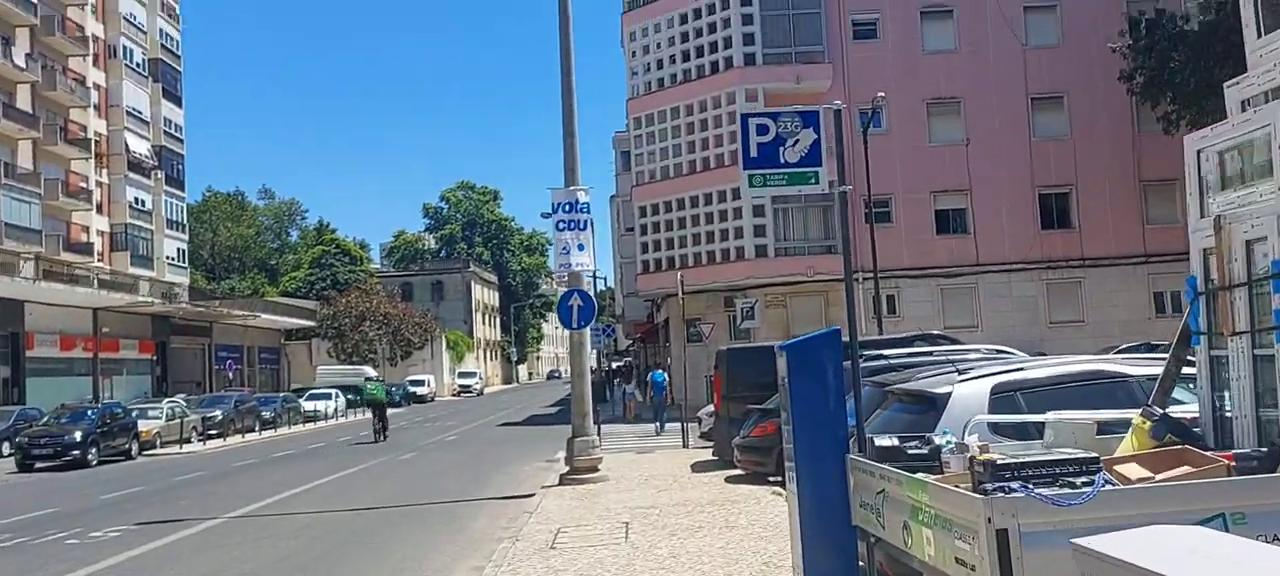sentido obrigatorio: (553, 287, 600, 334)
